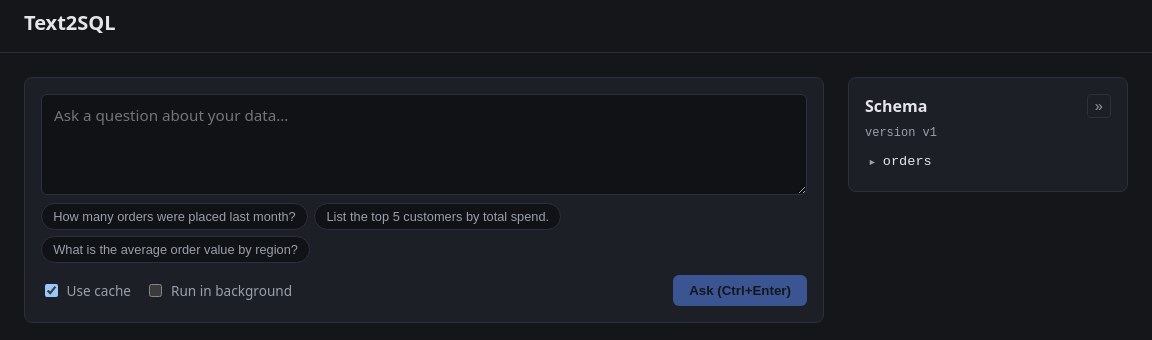
Test case: App › collapses and expands the schema sidebar
Check: the heading "Schema" is shown, box [865,95,927,117]
Click the button named "collapse schema sidebar" at (1099,106), box [1087,94,1111,118]
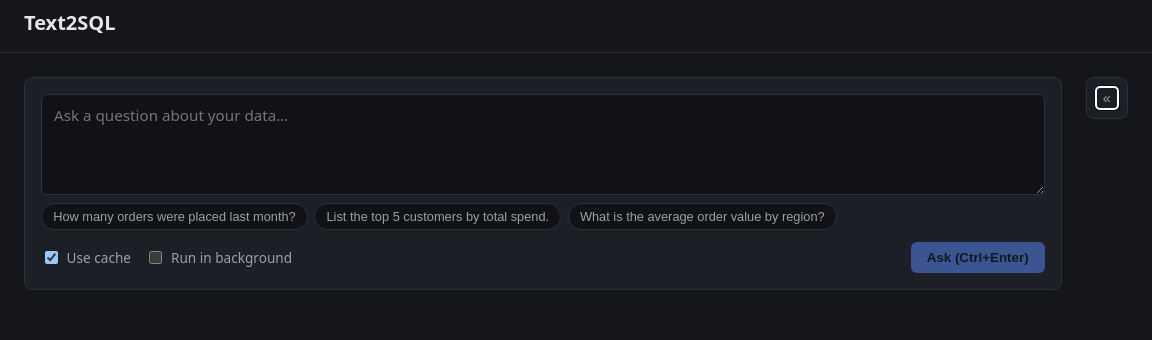
Check: the heading "Schema" is gone
Click the button named "expand schema sidebar" at (1107,98), box [1095,86,1119,110]
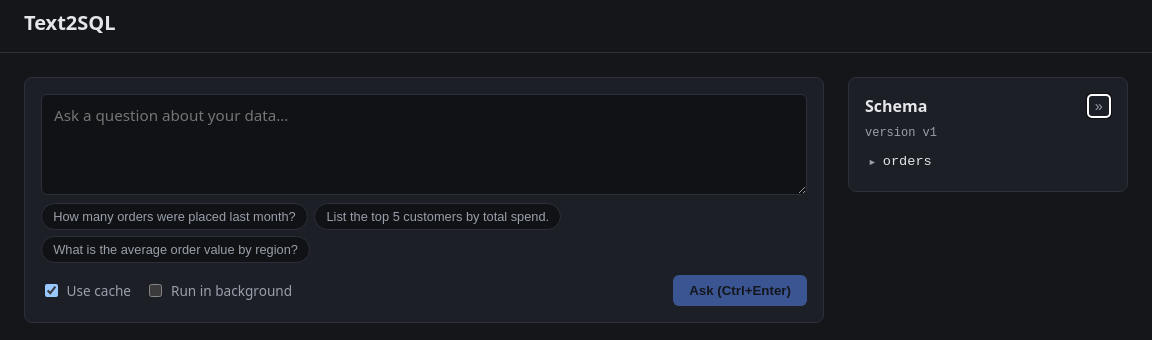
Check: the heading "Schema" is shown, box [865,95,927,117]
